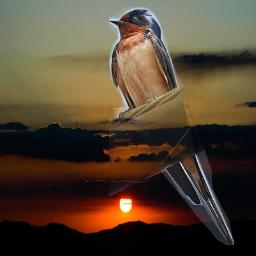Swallow: (109, 7, 234, 245)
